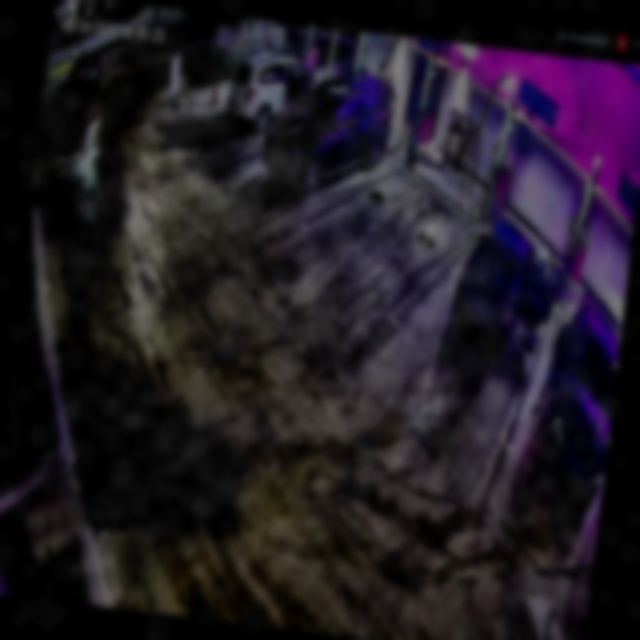Car: (447, 208, 570, 368), (260, 60, 398, 202)
